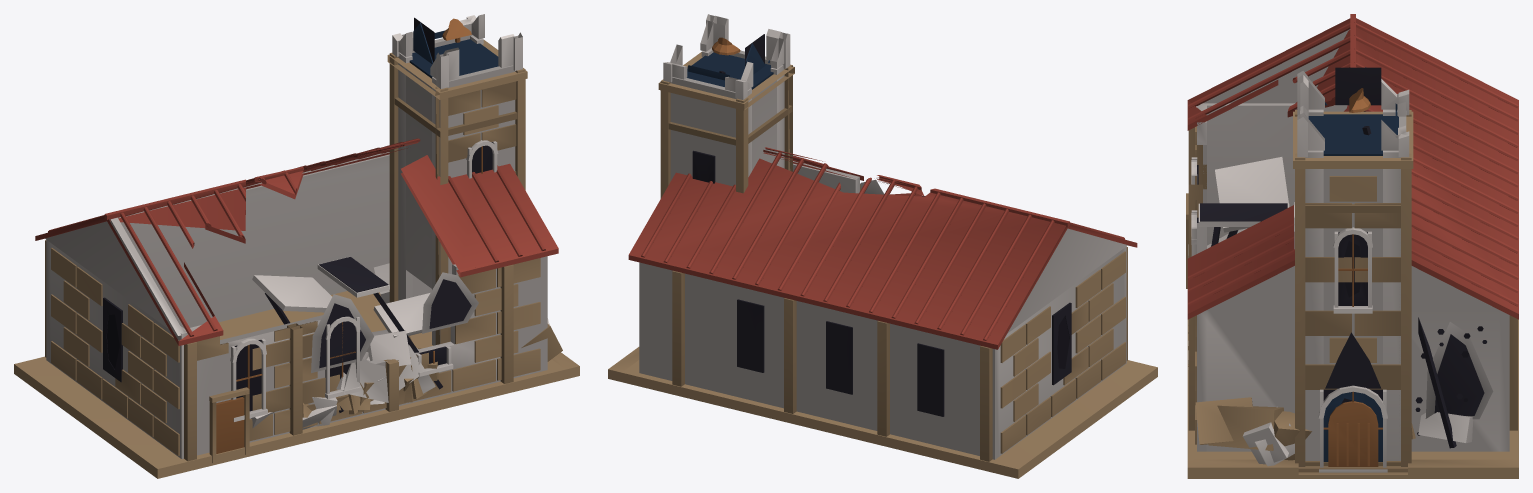
3 views of the same model, side by side, from view 1: azimuth 30°, elevation 25°; view 2: azimuth 150°, elevation 25°; view 3: azimuth 270°, elevation 25° (orthographic). The views are drawn at different scales.
Parts seen in each view (by area): view 1: body_pal_picketWhite, body_pal_khaki, roof_pal_brick, body_pal_uiDark, body_pal_woodWarm, body_pal_blueTrim; view 2: roof_pal_brick, body_pal_picketWhite, body_pal_khaki, body_pal_uiDark, body_pal_blueTrim; view 3: body_pal_picketWhite, roof_pal_brick, body_pal_khaki, body_pal_uiDark, body_pal_blueTrim, door_front_pal_woodWarm, body_pal_woodWarm.
Part boxes in pixels (x1,y1,x2,y2): body_pal_picketWhite: (45, 14, 549, 458); body_pal_khaki: (14, 40, 579, 478); roof_pal_brick: (35, 138, 558, 345); body_pal_uiDark: (103, 17, 492, 412); body_pal_woodWarm: (216, 18, 482, 453); body_pal_blueTrim: (409, 22, 498, 78); roof_pal_brick: (628, 147, 1137, 349); body_pal_picketWhite: (639, 14, 1127, 459); body_pal_khaki: (608, 52, 1157, 478); body_pal_uiDark: (692, 34, 1071, 416); body_pal_blueTrim: (687, 43, 773, 89); body_pal_picketWhite: (1188, 29, 1509, 472); roof_pal_brick: (1187, 14, 1518, 319); body_pal_khaki: (1186, 110, 1518, 478); body_pal_uiDark: (1197, 67, 1486, 448); body_pal_blueTrim: (1308, 67, 1398, 461); door_front_pal_woodWarm: (1328, 401, 1378, 466); body_pal_woodWarm: (1323, 88, 1382, 429).
Size of the model in its own units: 18 by 12.9 by 10.65.
